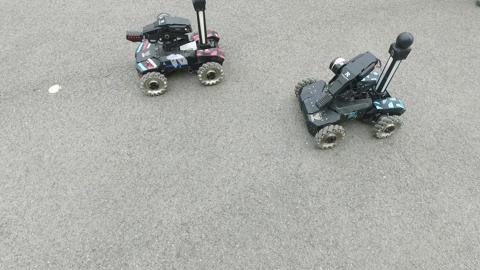chariot: (292, 29, 414, 152), (121, 1, 231, 101)
